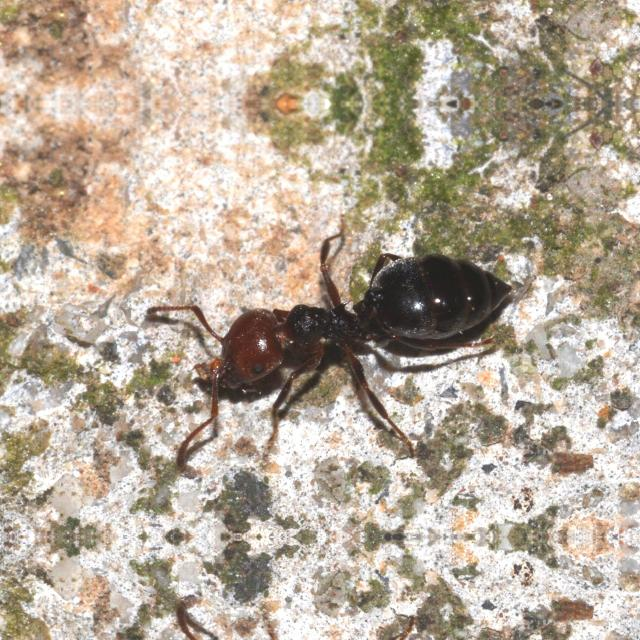Crematogaster: (160, 228, 550, 428)
